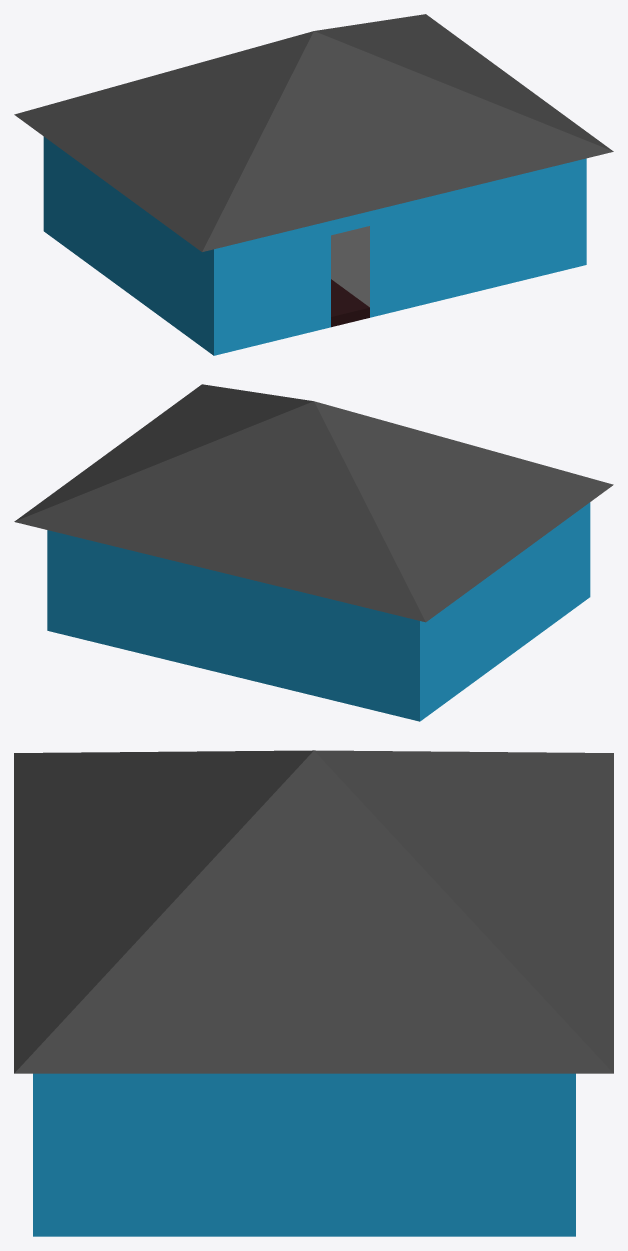
The model's file is domik2.fbx.
3 renders of one model, top to bottom at view 1: azimuth 30°, elevation 25°; view 2: azimuth 150°, elevation 25°; view 3: azimuth 270°, elevation 25°, orthographic. The views are drawn at different scales.
Parts seen in each view (by area): view 1: Plane; view 2: Plane; view 3: Plane.
Boxes of the visible parts, <box> form: Plane: <box>14,14,613,355</box>; Plane: <box>14,384,613,721</box>; Plane: <box>14,750,613,1236</box>.
Bounding box in the file's own units: 2110 × 1050 × 1668.
